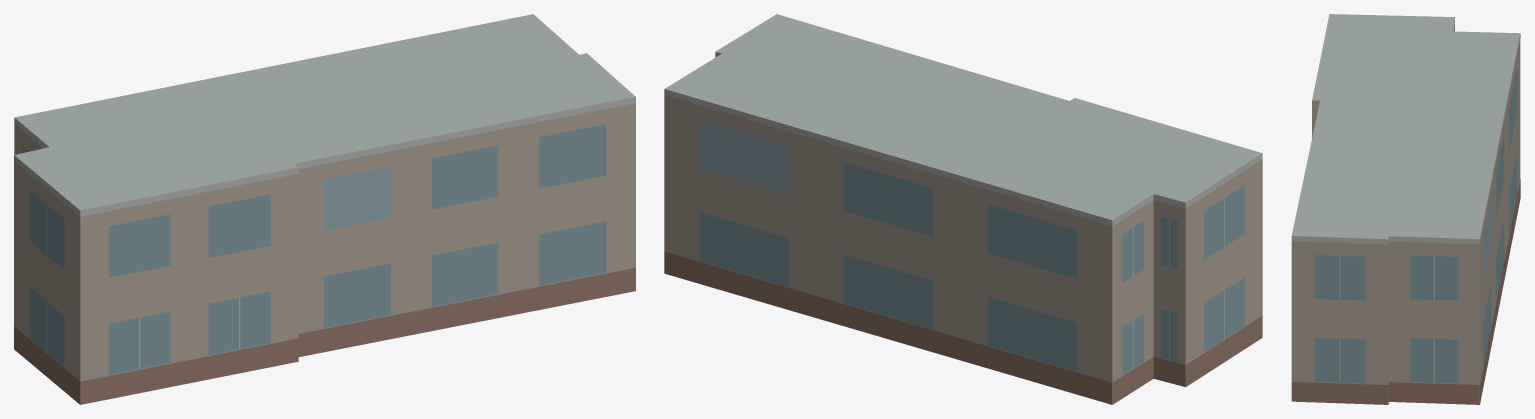
Rendered from survey-upis-32750932.glb.
3 views of the same model, side by side, from view 1: azimuth 30°, elevation 25°; view 2: azimuth 150°, elevation 25°; view 3: azimuth 270°, elevation 25° (orthographic). The views are drawn at different scales.
Parts seen in each view (by area): view 1: survey-upis-32750932.tmp; view 2: survey-upis-32750932.tmp; view 3: survey-upis-32750932.tmp.
Part boxes in pixels (x1,y1,x2,y2): survey-upis-32750932.tmp: [14, 14, 635, 404]; survey-upis-32750932.tmp: [664, 14, 1262, 404]; survey-upis-32750932.tmp: [1291, 14, 1520, 404].
Size of the model in its own units: 21.88 by 7.5 by 9.4.
